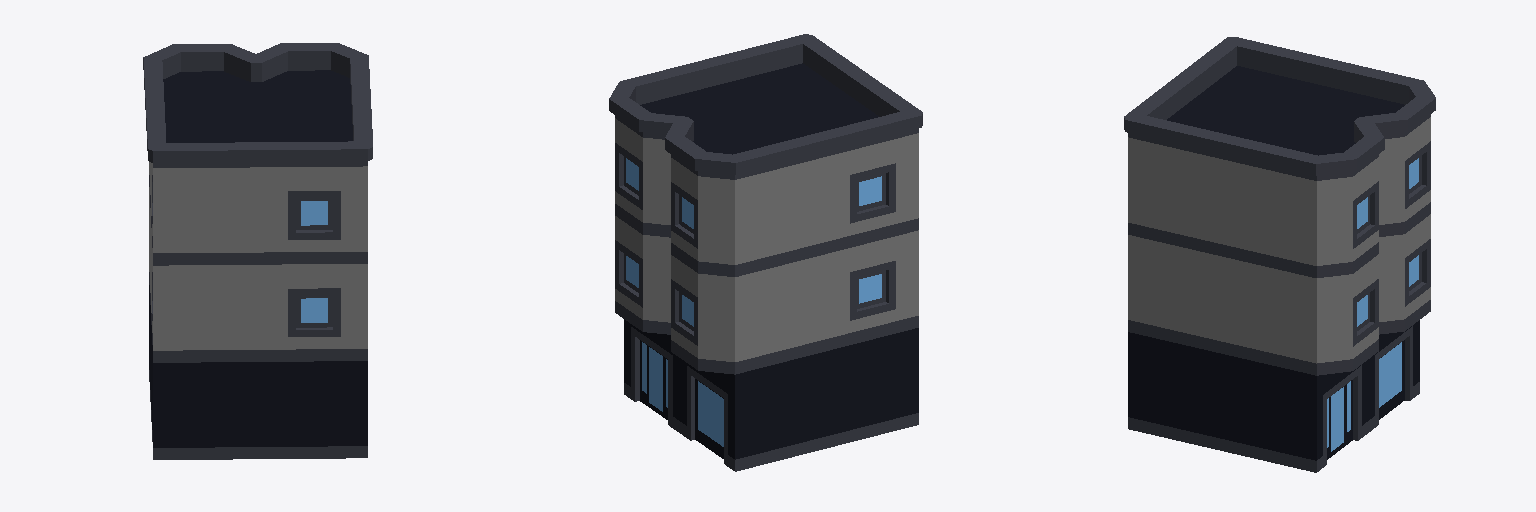
The model's file is variant_46.obj.
The picture shows the model from 3 angles: view 1: azimuth 30°, elevation 25°; view 2: azimuth 150°, elevation 25°; view 3: azimuth 270°, elevation 25°; orthographic projection.
Visible parts, largest first — view 1: small_buildingA; view 2: small_buildingA; view 3: small_buildingA.
Part boxes in pixels (x1,y1,x2,y2): small_buildingA: (143, 43, 372, 459); small_buildingA: (609, 34, 922, 471); small_buildingA: (1124, 37, 1435, 472).
Size of the model in its own units: 1.13 by 1.28 by 1.16.